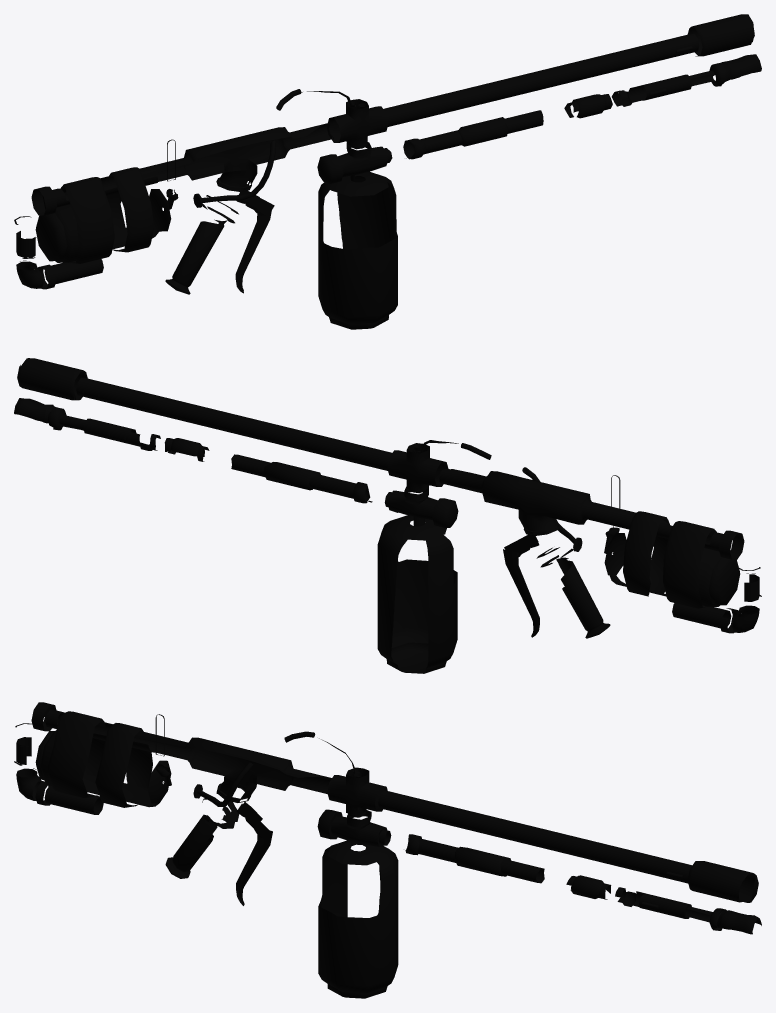
The model's file is Flamethrower.fbx.
3 renders of one model, top to bottom at view 1: azimuth 30°, elevation 25°; view 2: azimuth 150°, elevation 25°; view 3: azimuth 330°, elevation 25°, orthographic.
Visible parts, largest first — view 1: Flamethrower; view 2: Flamethrower; view 3: Flamethrower.
Part boxes in pixels (<box>): Flamethrower: <box>14,14,761,329</box>; Flamethrower: <box>14,358,761,673</box>; Flamethrower: <box>14,702,761,998</box>.
Size of the model in its own units: 499 by 156 by 51.68.
